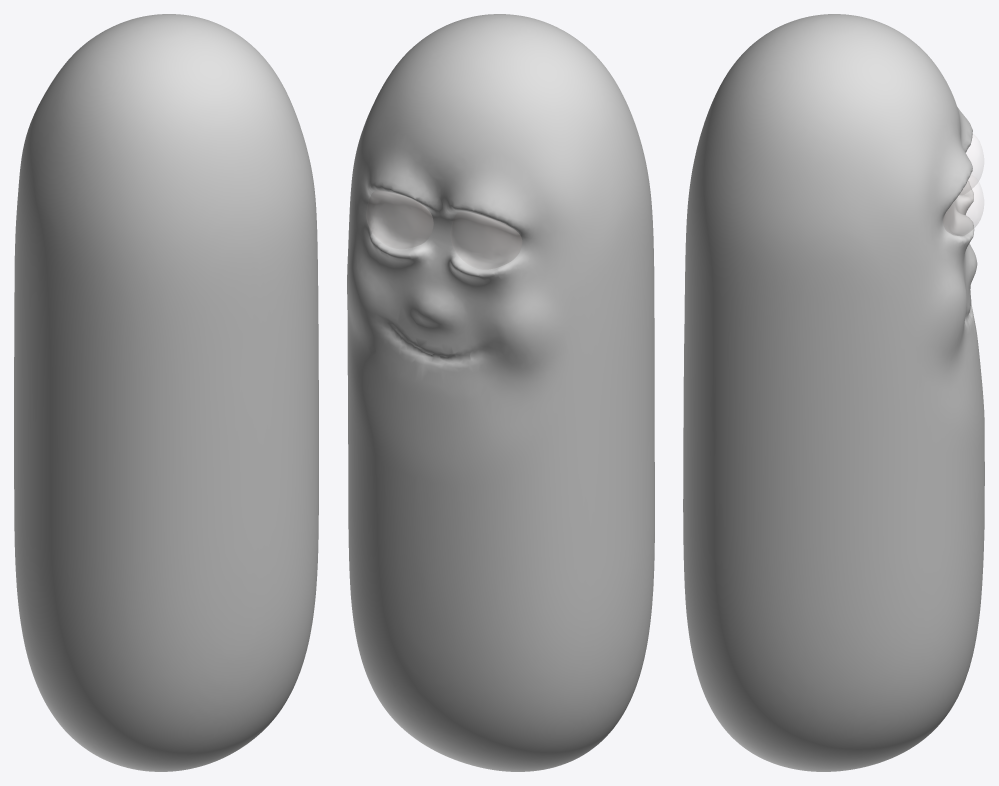
The model's file is pinky up.glb.
3 renders of one model, left to right at view 1: azimuth 30°, elevation 25°; view 2: azimuth 150°, elevation 25°; view 3: azimuth 270°, elevation 25°, orthographic.
Parts seen in each view (by area): view 1: Pinky Up_bad_topo; view 2: Pinky Up_bad_topo; view 3: Pinky Up_bad_topo.
Part boxes in pixels (x1,y1,x2,y2): Pinky Up_bad_topo: (14,14,318,771); Pinky Up_bad_topo: (347,14,654,771); Pinky Up_bad_topo: (683,14,984,771).
Bounding box in the file's own units: 0.6796 × 1.82 × 0.6786.
Materials: 1 (1 with a texture image).
